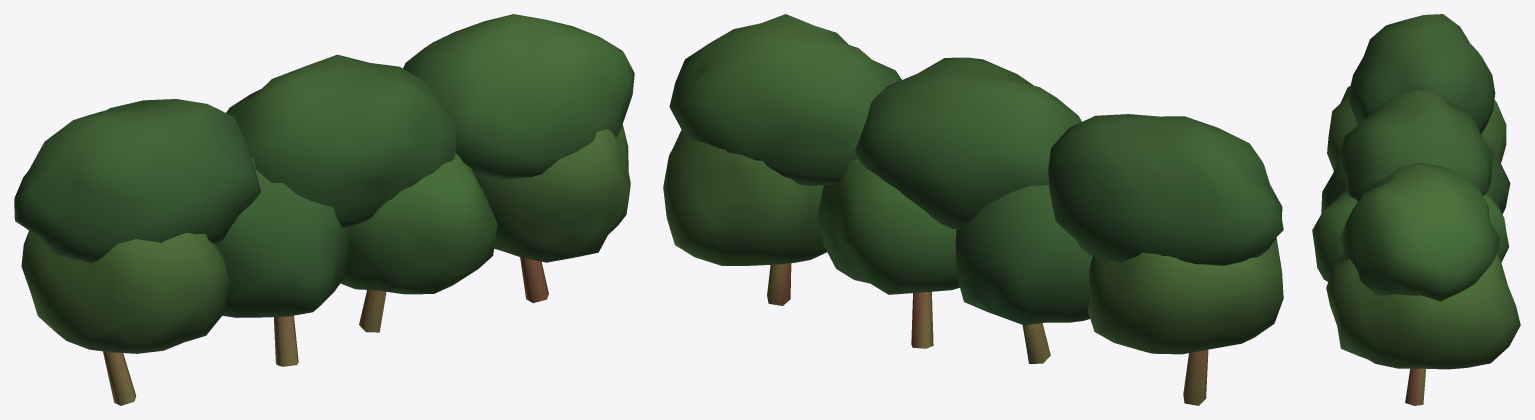
File: hedge_dense.glb
The picture shows the model from 3 angles, left to right: view 1: azimuth 30°, elevation 25°; view 2: azimuth 150°, elevation 25°; view 3: azimuth 270°, elevation 25°; orthographic projection. The views are drawn at different scales.
Parts seen in each view (by area): view 1: orchard_hedge_dense_Foliage, orchard_hedge_dense_Stems; view 2: orchard_hedge_dense_Foliage, orchard_hedge_dense_Stems; view 3: orchard_hedge_dense_Foliage, orchard_hedge_dense_Stems.
Part boxes in pixels (left/top/right/bottom): orchard_hedge_dense_Foliage: left=14, top=14, right=634, bottom=353; orchard_hedge_dense_Stems: left=103, top=257, right=548, bottom=405; orchard_hedge_dense_Foliage: left=663, top=14, right=1283, bottom=354; orchard_hedge_dense_Stems: left=767, top=263, right=1208, bottom=405; orchard_hedge_dense_Foliage: left=1312, top=14, right=1520, bottom=369; orchard_hedge_dense_Stems: left=1405, top=368, right=1425, bottom=405.
Bounding box in the file's own units: 3.4 × 1.52 × 1.28.
